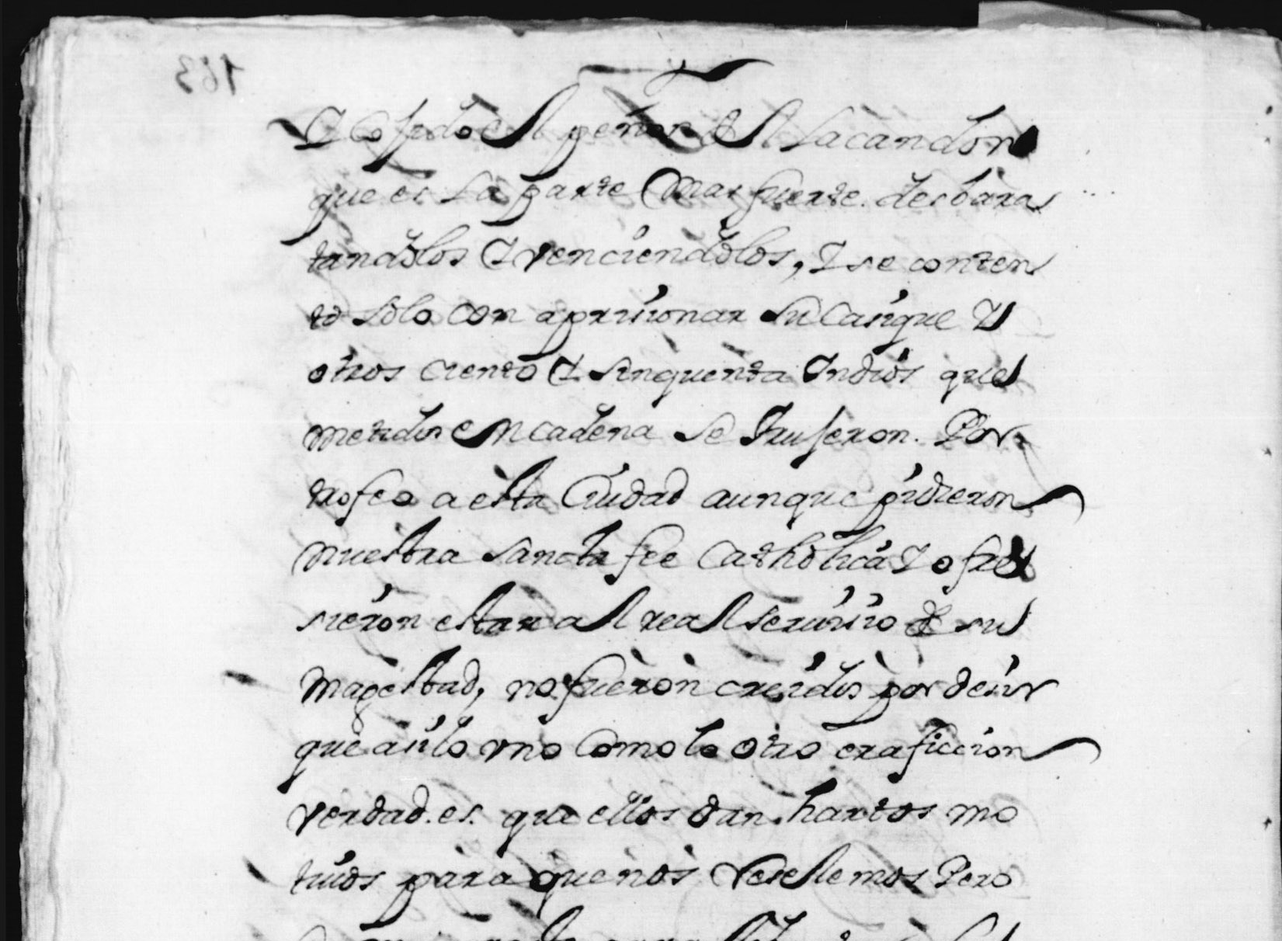lacandon: (779, 104, 1023, 157)
